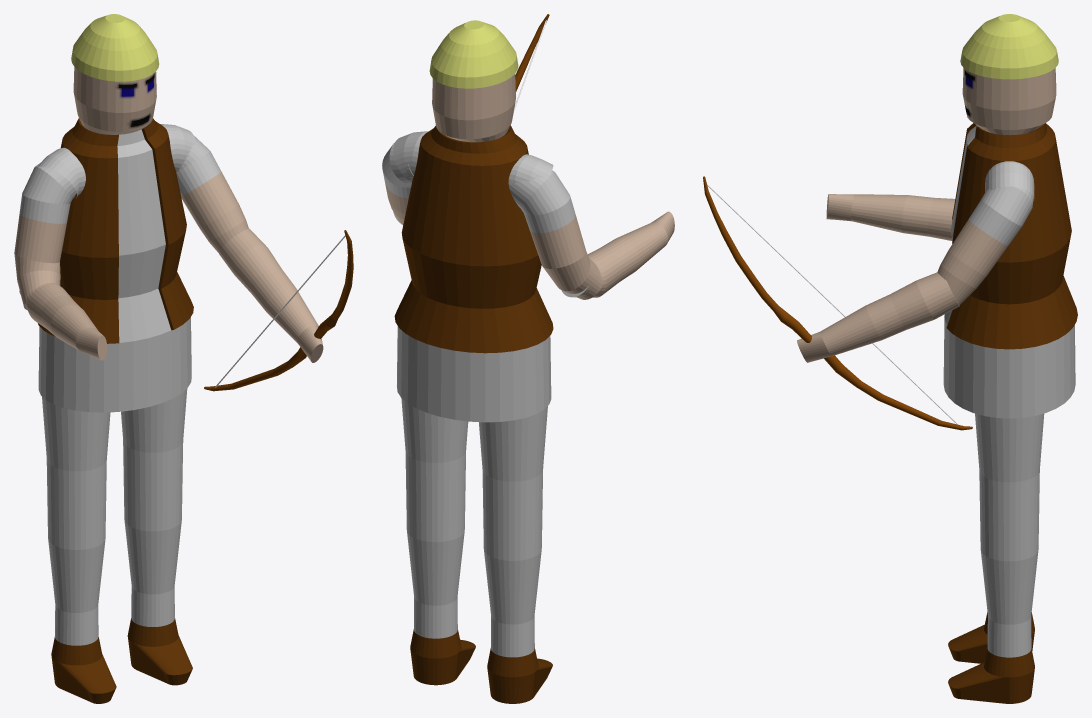
The model's file is Лучник0.fbx.
3 views of the same model, side by side, from view 1: azimuth 30°, elevation 25°; view 2: azimuth 150°, elevation 25°; view 3: azimuth 270°, elevation 25° (orthographic).
Visible parts, largest first — view 1: Цилиндр.037, Цилиндр.135, Цилиндр.043, Цилиндр.042, Цилиндр.045, Цилиндр.044, Цилиндр.039, Цилиндр.040, Цилиндр.134, Цилиндр.041, Цилиндр.038, Цилиндр.033 (+2 smaller); view 2: Цилиндр.135, Цилиндр.037, Цилиндр.043, Цилиндр.044, Цилиндр.042, Цилиндр.045, Цилиндр.039, Цилиндр.134, Цилиндр.038, Цилиндр.041, Цилиндр.035, Цилиндр.036 (+1 smaller); view 3: Цилиндр.135, Цилиндр.037, Цилиндр.044, Цилиндр.045, Цилиндр.040, Цилиндр.041, Цилиндр.134, Цилиндр.038, Цилиндр.033, Цилиндр.042, Цилиндр.035.
Boxes of the visible parts, x1=… form: Цилиндр.037: x1=38, y1=67, x2=191, y2=412; Цилиндр.135: x1=38, y1=118, x2=193, y2=343; Цилиндр.043: x1=42, y1=397, x2=110, y2=549; Цилиндр.042: x1=48, y1=540, x2=116, y2=703; Цилиндр.045: x1=124, y1=521, x2=192, y2=685; Цилиндр.044: x1=121, y1=389, x2=187, y2=531; Цилиндр.039: x1=14, y1=163, x2=76, y2=310; Цилиндр.040: x1=218, y1=228, x2=323, y2=362; Цилиндр.134: x1=71, y1=14, x2=159, y2=81; Цилиндр.041: x1=176, y1=136, x2=248, y2=252; Цилиндр.038: x1=19, y1=283, x2=107, y2=360; Цилиндр.033: x1=204, y1=230, x2=353, y2=391; Цилиндр.135: x1=394, y1=125, x2=553, y2=353; Цилиндр.037: x1=397, y1=74, x2=551, y2=422; Цилиндр.043: x1=479, y1=406, x2=547, y2=560; Цилиндр.044: x1=401, y1=398, x2=468, y2=542; Цилиндр.042: x1=484, y1=550, x2=552, y2=703; Цилиндр.045: x1=407, y1=532, x2=475, y2=685; Цилиндр.039: x1=508, y1=170, x2=603, y2=299; Цилиндр.134: x1=429, y1=20, x2=518, y2=88; Цилиндр.038: x1=561, y1=211, x2=674, y2=297; Цилиндр.041: x1=382, y1=139, x2=413, y2=224; Цилиндр.035: x1=393, y1=131, x2=428, y2=182; Цилиндр.036: x1=508, y1=154, x2=553, y2=185; Цилиндр.135: x1=946, y1=123, x2=1077, y2=349; Цилиндр.037: x1=943, y1=68, x2=1075, y2=418; Цилиндр.044: x1=975, y1=413, x2=1044, y2=561; Цилиндр.045: x1=948, y1=550, x2=1038, y2=703; Цилиндр.040: x1=797, y1=272, x2=959, y2=362; Цилиндр.041: x1=937, y1=186, x2=1034, y2=308; Цилиндр.134: x1=960, y1=14, x2=1058, y2=79; Цилиндр.038: x1=826, y1=194, x2=955, y2=240; Цилиндр.033: x1=703, y1=176, x2=972, y2=430; Цилиндр.042: x1=948, y1=612, x2=1034, y2=663; Цилиндр.035: x1=985, y1=161, x2=1034, y2=201.
Bounding box in the file's own units: 41.96 × 114 × 58.79.
